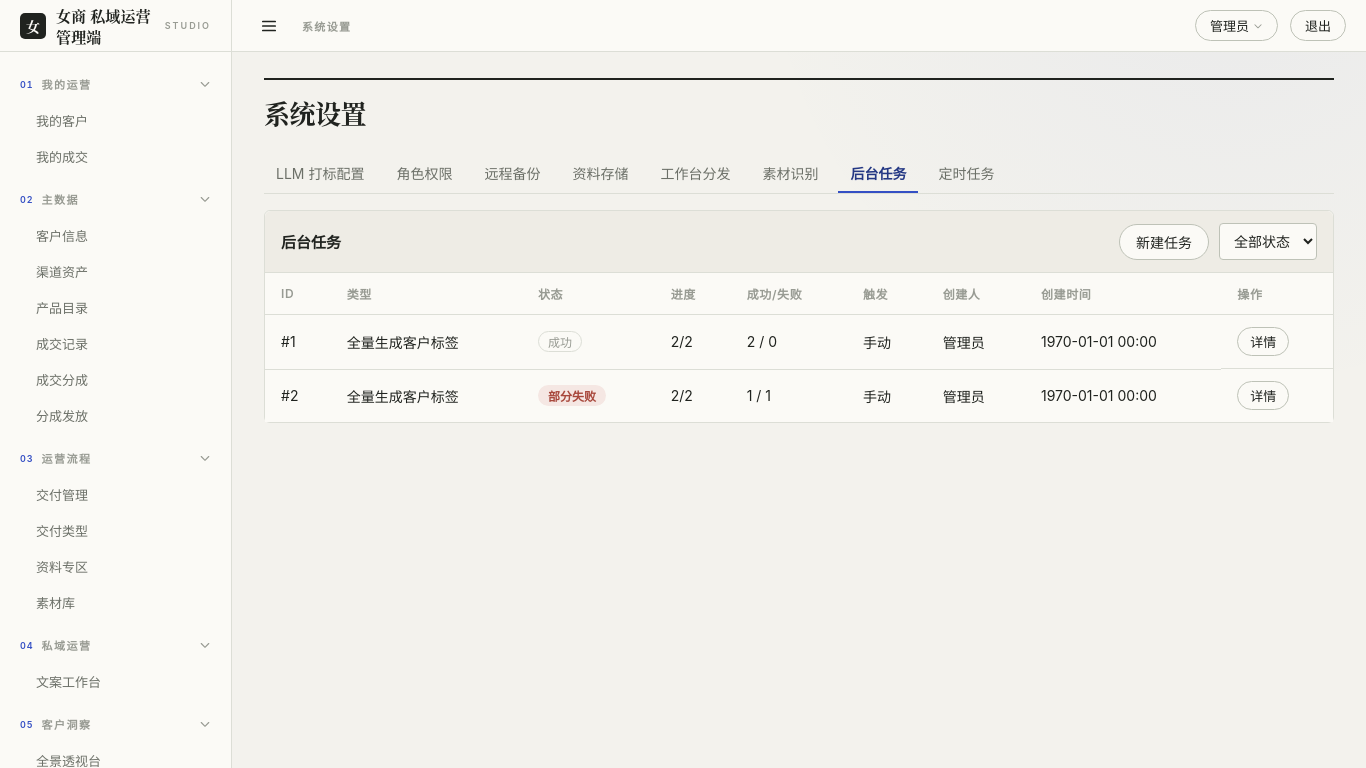
Test: 系统设置页 › 详情弹窗：展示失败明细（客户/原因）与耗时
Step 1. Click the button "详情" in the row of "部分失败" → (1263, 396), box [1237, 381, 1289, 410]
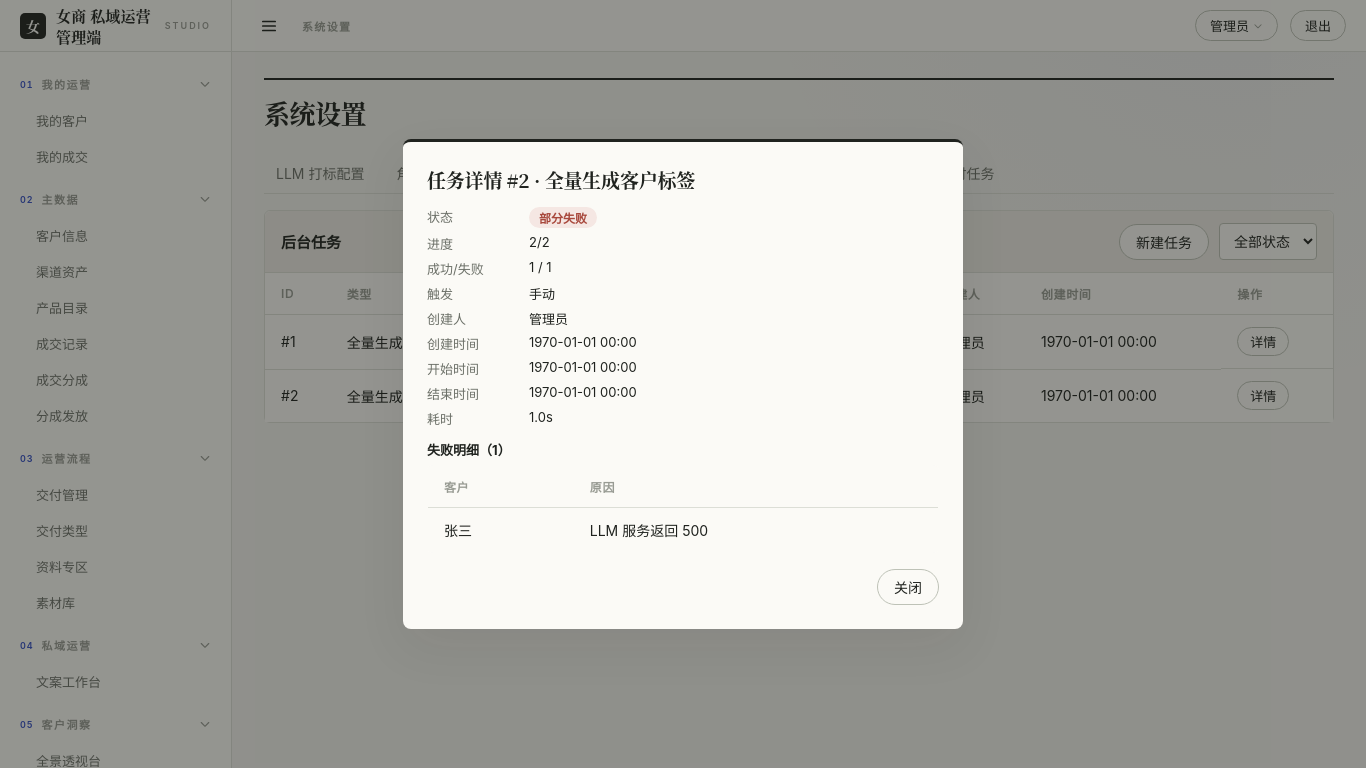
Check: the heading "失败明细（1）" is shown, box [427, 442, 511, 458]
Check: the text "张三" is shown, box [428, 508, 574, 552]
Check: the text "LLM 服务返回 500" is shown, box [574, 508, 938, 552]
